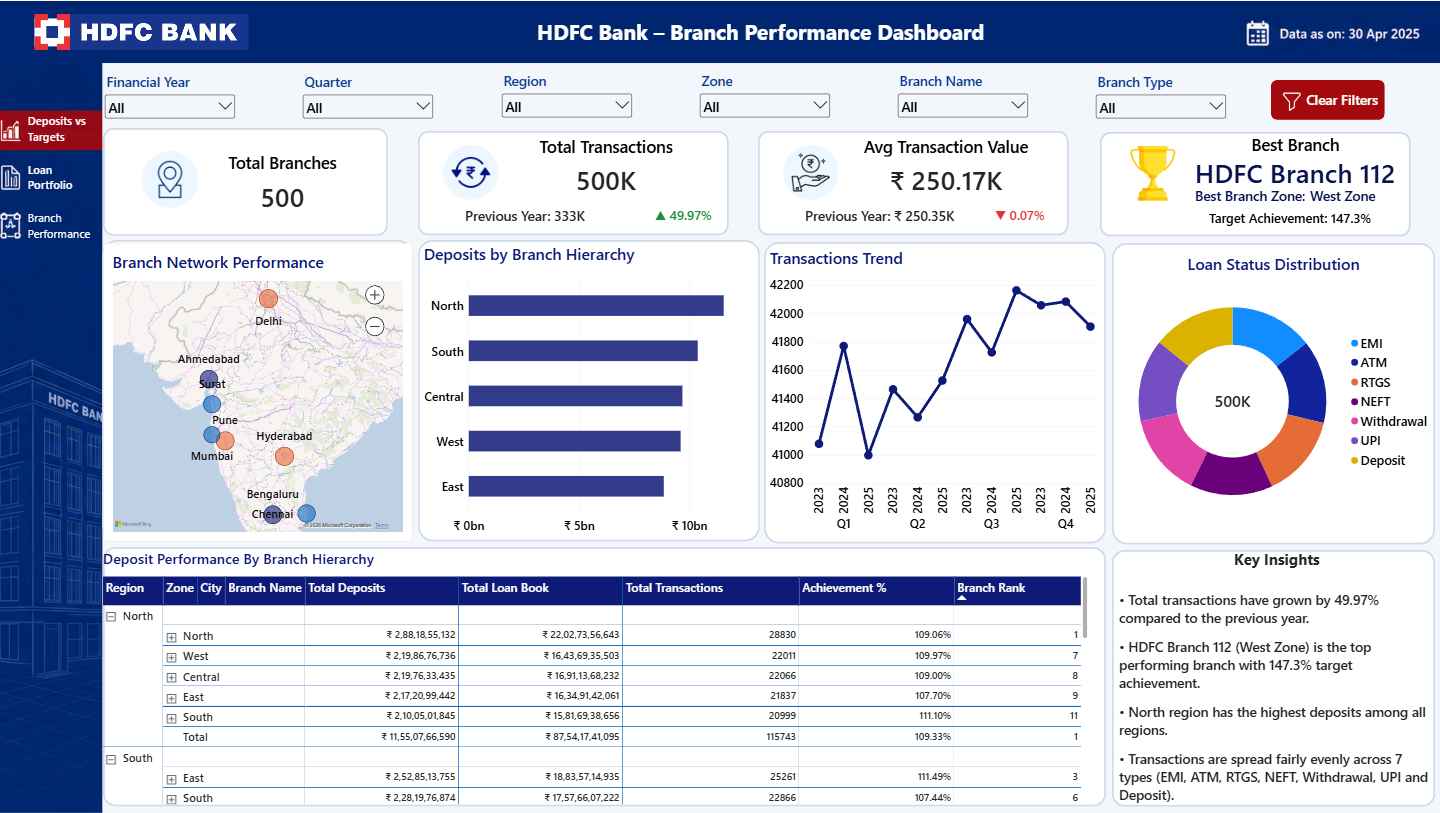

The dashboard page shown, as its layout file describes it:
{"tool":"powerbi","page":{"name":"Branch Performance","canvas":[2560,1440],"ordinal":2},"visuals":[{"type":"shape","title":"Header","box":[0,0,2560.8,110.2],"z":0,"group":"g9"},{"type":"image","box":[0,2.5,185,1437.5],"z":0},{"type":"slicer","title":"Year","fields":{"Values":["Dim Date.Financial Year"]},"box":[184,124,241.1,89.4],"z":0,"group":"g8"},{"type":"actionButton","box":[2257.8,139.2,201.6,70.7],"z":0,"group":"g10"},{"type":"shape","box":[187.1,224.5,505.1,191.2],"z":0,"group":"g7"},{"type":"shape","box":[744.6,230.7,550.8,185],"z":0,"group":"g6"},{"type":"shape","box":[1347.9,230.7,550.8,185],"z":0,"group":"g5"},{"type":"shape","box":[1953.6,232.5,550.8,185],"z":0,"group":"g1"},{"type":"textbox","box":[827.1,363.7,175,32.5],"z":0,"group":"g3"},{"type":"textbox","box":[1430.4,363.7,175,32.5],"z":0,"group":"g4"},{"type":"shape","title":"Logo 2nd","box":[64.7,30.9,64.7,50.8],"z":1000,"group":"g9"},{"type":"slicer","title":"Qua","fields":{"Values":["Dim Date.Quarter"]},"box":[535.6,123.7,241.1,89.4],"z":1000,"group":"g8"},{"type":"image","box":[2276.5,145.4,35.3,62.4],"z":1000,"group":"g10"},{"type":"group","id":"g1","title":"4th KPI","box":[1953.6,232.5,551.3,184.6],"z":1000},{"type":"group","id":"g2","title":"Side-KPI","box":[2121.2,328.1,355.5,38.4],"z":1000,"group":"g1"},{"type":"cardVisual","fields":{"Data":["Measures_3.Best Branch Zone"]},"box":[2308.9,328.8,167.8,33.6],"z":1000,"group":"g2"},{"type":"group","id":"g3","title":"Side-KPI","box":[827.1,360.1,461.2,41.6],"z":1000,"group":"g6"},{"type":"group","id":"g4","title":"Side-KPI","box":[1430.4,360.1,461.2,41.6],"z":1000,"group":"g5"},{"type":"cardVisual","fields":{"Data":["Measures_3.Total Transactions PY"]},"box":[969.8,360.2,168.4,41.6],"z":1000,"group":"g3"},{"type":"cardVisual","fields":{"Data":["Measures_3.Avg Transaction Value PY"]},"box":[1573.1,360.2,168.4,41.6],"z":1000,"group":"g4"},{"type":"textbox","box":[2121.2,328.1,220.5,38.4],"z":1500,"group":"g2"},{"type":"cardVisual","title":"%","fields":{"Data":["Measures_3.Best Branch Achievement"]},"box":[2130.8,361.7,328.4,45.5],"z":1500,"group":"g1"},{"type":"image","title":"Logo","box":[0,0,509.2,110.2],"z":2000,"group":"g9"},{"type":"slicer","title":"Region","fields":{"Values":["Dim Branch.Region"]},"box":[887.2,122.7,241.1,89.4],"z":2000,"group":"g8"},{"type":"group","id":"g5","title":"3rd KPI","box":[1347.9,230.7,550.8,185],"z":2000},{"type":"cardVisual","fields":{"Data":["Measures_3.Total Transactions"]},"box":[913.2,236.1,330.8,115.9],"z":2000,"group":"g6"},{"type":"cardVisual","fields":{"Data":["Measures_3.Avg Transaction Value"]},"box":[1516.5,236.1,330.8,115.9],"z":2000,"group":"g5"},{"type":"cardVisual","fields":{"Data":["Measures_3.Best Branch"]},"box":[2094.9,237,409.9,95.9],"z":2000,"group":"g1"},{"type":"cardVisual","fields":{"Data":["Measures_3.Total Branches"]},"box":[353.2,260.9,303.3,119.9],"z":2000,"group":"g7"},{"type":"cardVisual","title":"%","fields":{"Data":["Measures_3.Transactions Growth Label"]},"box":[1148.3,360.1,140,38.7],"z":2000,"group":"g3"},{"type":"cardVisual","title":"%","fields":{"Data":["Measures_3.Avg Growth Label"]},"box":[1751.6,360.1,140,38.7],"z":2000,"group":"g4"},{"type":"textbox","title":"Heading","box":[796.1,29,1112.5,51.2],"z":3000,"group":"g9"},{"type":"slicer","title":"Zone","fields":{"Values":["Dim Branch.Zone"]},"box":[1238.8,122.3,241.1,89.4],"z":3000,"group":"g8"},{"type":"group","id":"g6","title":"2nd KPI","box":[744.6,230.7,550.8,185],"z":3000},{"type":"image","box":[777.5,256.3,119.9,97.4],"z":3000,"group":"g6"},{"type":"image","box":[1380.8,256.3,119.9,97.4],"z":3000,"group":"g5"},{"type":"image","box":[1986.5,258.1,119.9,97.4],"z":3000,"group":"g1"},{"type":"image","box":[251.4,265.1,109.9,100.7],"z":3000,"group":"g7"},{"type":"slicer","title":"Branch","fields":{"Values":["Dim Branch.Branch Name"]},"box":[1590.4,122,241.1,89.4],"z":4000,"group":"g8"},{"type":"group","id":"g7","title":"1st KPI","box":[187.1,224.5,505.1,191.2],"z":4000},{"type":"group","id":"g8","title":"Slicer","box":[184,122,2275.4,91.4],"z":5000},{"type":"slicer","title":"Product","fields":{"Values":["Dim Branch.Branch Type"]},"box":[1942,123.3,241.1,89.4],"z":5000,"group":"g8"},{"type":"group","id":"g9","title":"Header","box":[0,0,2559.7,110.7],"z":6000},{"type":"group","id":"g10","title":"Clear Filter","box":[2257.8,139.2,201.6,70.7],"z":6000,"group":"g8"},{"type":"shape","box":[184.6,424.3,551.3,534.5],"z":7000},{"type":"shape","box":[745.5,424.3,606.4,534.5],"z":8000},{"type":"shape","box":[1359.1,426.7,606.4,534.5],"z":9000},{"type":"shape","box":[1975.1,429.1,572.9,534.5],"z":10000},{"type":"shape","box":[187,968.4,1778.6,460.2],"z":11000},{"type":"shape","box":[1975.1,973.2,572.9,455.4],"z":12000},{"type":"map","title":"Branch Network Performance ","fields":{"Category":["Dim Branch.City"],"Size":["Measures_1.Total Deposits"]},"box":[187,429.1,548.9,529.7],"z":13000},{"type":"clusteredBarChart","title":"Deposits by Branch Hierarchy","fields":{"Category":["Dim Branch.Branch Hierarchy.Region"],"Y":["Measures_1.Total Deposits"]},"box":[745.5,424.3,601.6,534.5],"z":14000},{"type":"lineChart","title":"Transactions Trend","fields":{"Category":["Dim Date.Quarter","Dim Date.Year"],"Y":["Measures_3.Total Transactions"]},"box":[1359.1,431.5,606.4,527.3],"z":15000},{"type":"donutChart","title":"Loan Status Distribution","fields":{"Category":["Fact Transactions.Transaction Type"],"Y":["Measures_3.Total Transactions"]},"box":[1965,432.5,594.5,503],"z":16000},{"type":"pivotTable","title":"Deposit Performance By Branch Hierarchy","fields":{"Rows":["Dim Branch.Region","Dim Branch.Zone","Dim Branch.City","Dim Branch.Branch Name"],"Values":["Measures_1.Total Deposits","Measures_2.Total Loan Book","Measures_3.Total Transactions","Measures_1.Achievement %","Measures_3.Branch Rank"]},"box":[170,957.5,1777.5,482.5],"z":17000},{"type":"textbox","box":[1987.5,972.5,560,455],"z":18000},{"type":"image","box":[2180,2,380,110],"z":19000},{"type":"pageNavigator","box":[40,182.5,140,257.5],"z":19001}]}

Visuals, with their boxes on the page's 2560x1440 design canvas (x1, y1, x2, y2). These are canvas units, not pixel positions in the 1440x813 screenshot, which may show the page scaled, cropped or inside an application window:
"Header" shape: (left=0, top=0, right=2561, bottom=110)
image: (left=0, top=2, right=185, bottom=1440)
"Year" slicer: (left=184, top=124, right=425, bottom=213)
actionButton: (left=2258, top=139, right=2459, bottom=210)
shape: (left=187, top=224, right=692, bottom=416)
shape: (left=745, top=231, right=1295, bottom=416)
shape: (left=1348, top=231, right=1899, bottom=416)
shape: (left=1954, top=232, right=2504, bottom=418)
textbox: (left=827, top=364, right=1002, bottom=396)
textbox: (left=1430, top=364, right=1605, bottom=396)
"Logo 2nd" shape: (left=65, top=31, right=129, bottom=82)
"Qua" slicer: (left=536, top=124, right=777, bottom=213)
image: (left=2276, top=145, right=2312, bottom=208)
"4th KPI" group: (left=1954, top=232, right=2505, bottom=417)
"Side-KPI" group: (left=2121, top=328, right=2477, bottom=366)
cardVisual - Measures_3.Best Branch Zone: (left=2309, top=329, right=2477, bottom=362)
"Side-KPI" group: (left=827, top=360, right=1288, bottom=402)
"Side-KPI" group: (left=1430, top=360, right=1892, bottom=402)
cardVisual - Measures_3.Total Transactions PY: (left=970, top=360, right=1138, bottom=402)
cardVisual - Measures_3.Avg Transaction Value PY: (left=1573, top=360, right=1742, bottom=402)
textbox: (left=2121, top=328, right=2342, bottom=366)
"%" cardVisual: (left=2131, top=362, right=2459, bottom=407)
"Logo" image: (left=0, top=0, right=509, bottom=110)
"Region" slicer: (left=887, top=123, right=1128, bottom=212)
"3rd KPI" group: (left=1348, top=231, right=1899, bottom=416)
cardVisual - Measures_3.Total Transactions: (left=913, top=236, right=1244, bottom=352)
cardVisual - Measures_3.Avg Transaction Value: (left=1516, top=236, right=1847, bottom=352)
cardVisual - Measures_3.Best Branch: (left=2095, top=237, right=2505, bottom=333)
cardVisual - Measures_3.Total Branches: (left=353, top=261, right=656, bottom=381)
"%" cardVisual: (left=1148, top=360, right=1288, bottom=399)
"%" cardVisual: (left=1752, top=360, right=1892, bottom=399)
"Heading" textbox: (left=796, top=29, right=1909, bottom=80)
"Zone" slicer: (left=1239, top=122, right=1480, bottom=212)
"2nd KPI" group: (left=745, top=231, right=1295, bottom=416)
image: (left=778, top=256, right=897, bottom=354)
image: (left=1381, top=256, right=1501, bottom=354)
image: (left=1986, top=258, right=2106, bottom=356)
image: (left=251, top=265, right=361, bottom=366)
"Branch" slicer: (left=1590, top=122, right=1832, bottom=211)
"1st KPI" group: (left=187, top=224, right=692, bottom=416)
"Slicer" group: (left=184, top=122, right=2459, bottom=213)
"Product" slicer: (left=1942, top=123, right=2183, bottom=213)
"Header" group: (left=0, top=0, right=2560, bottom=111)
"Clear Filter" group: (left=2258, top=139, right=2459, bottom=210)
shape: (left=185, top=424, right=736, bottom=959)
shape: (left=746, top=424, right=1352, bottom=959)
shape: (left=1359, top=427, right=1966, bottom=961)
shape: (left=1975, top=429, right=2548, bottom=964)
shape: (left=187, top=968, right=1966, bottom=1429)
shape: (left=1975, top=973, right=2548, bottom=1429)
"Branch Network Performance " map: (left=187, top=429, right=736, bottom=959)
"Deposits by Branch Hierarchy" clusteredBarChart: (left=746, top=424, right=1347, bottom=959)
"Transactions Trend" lineChart: (left=1359, top=432, right=1966, bottom=959)
"Loan Status Distribution" donutChart: (left=1965, top=432, right=2560, bottom=936)
"Deposit Performance By Branch Hierarchy" pivotTable: (left=170, top=958, right=1948, bottom=1440)
textbox: (left=1988, top=972, right=2548, bottom=1428)
image: (left=2180, top=2, right=2560, bottom=112)
pageNavigator: (left=40, top=182, right=180, bottom=440)
